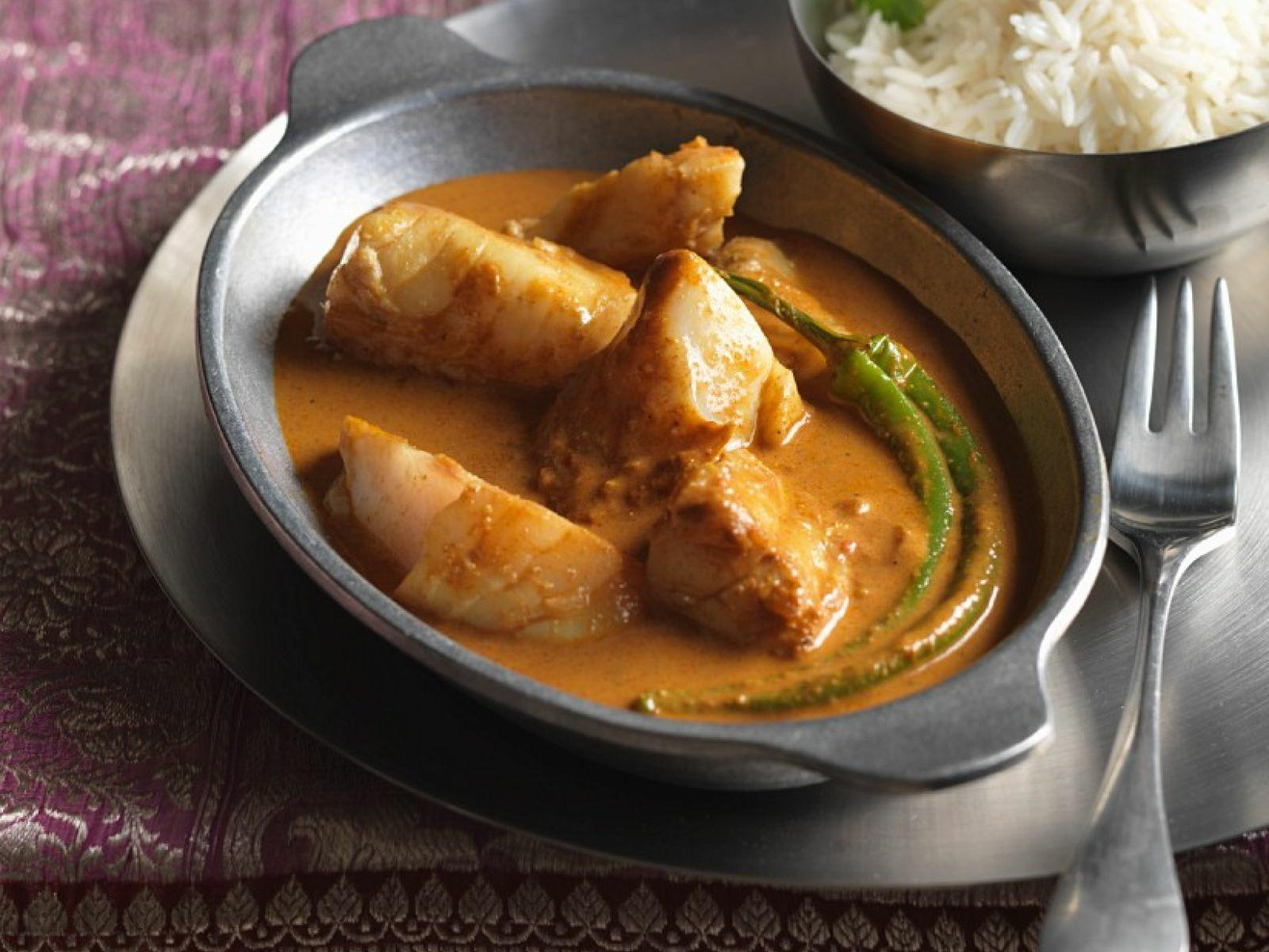FishCurry: (266, 129, 1037, 718)
WhiteRice: (825, 0, 1269, 147)
